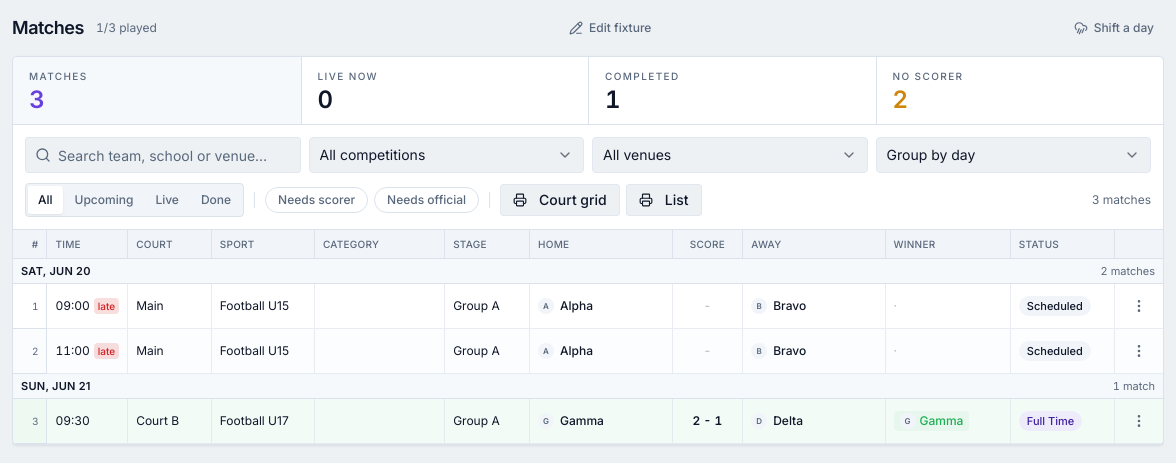
Scenario: MatchesBoardPage › filters by status and by free-text search
This screenshot has width=1176, height=463.
Expected: the row with test id "tile-m1" is shown, [13,284,1163,329]
Click the button with test id "board-status-done".
click(216, 200)  # box [191,186,241,214]
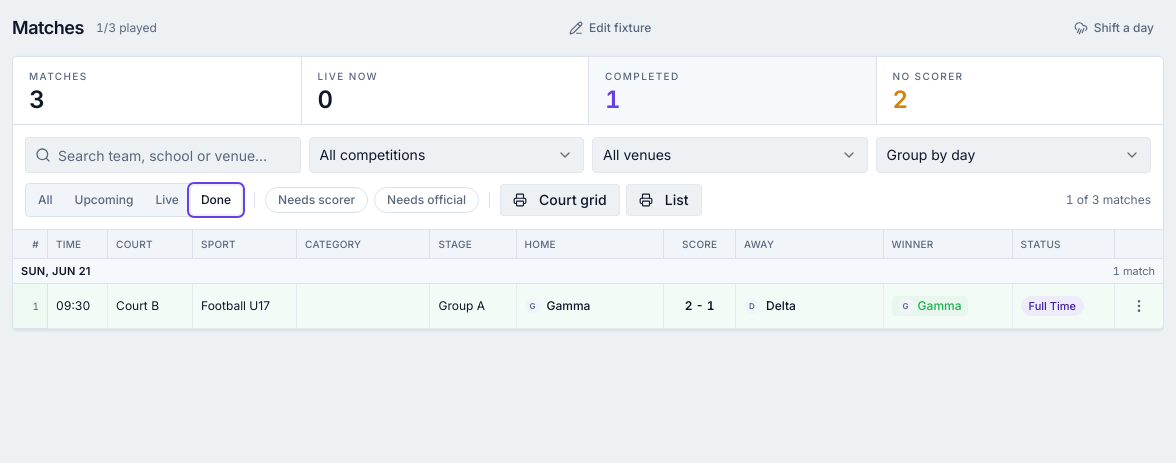
Expected: the row with test id "tile-m3" is shown, [13,284,1163,329]
Now the row with test id "tile-m1" is gone
// Reset status, then search narrows to the U17 competition.
Click the button with test id "board-status-all".
click(45, 200)  # box [28,186,63,214]
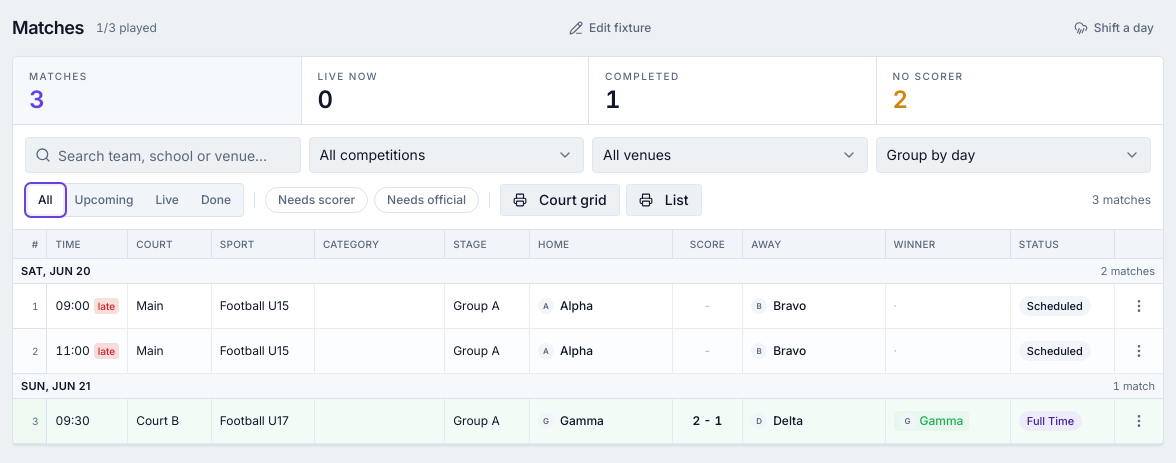
Type "u17" into the field with test id "board-search".
click(163, 155); type("u17")  # box [25,137,300,173]
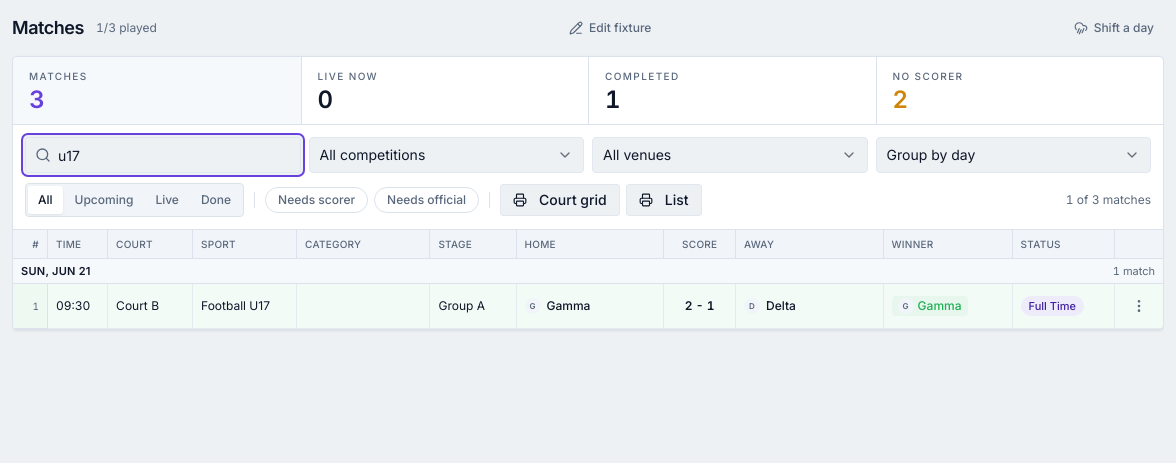
Expected: the row with test id "tile-m3" is shown, [13,284,1163,329]
Now the row with test id "tile-m1" is gone
Now the row with test id "tile-m2" is gone
